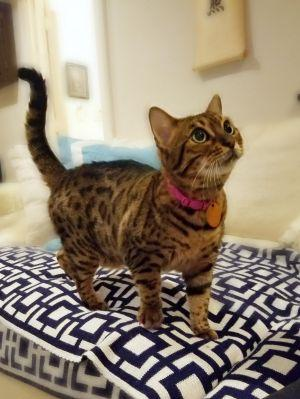bengal: (138, 91, 256, 191)
